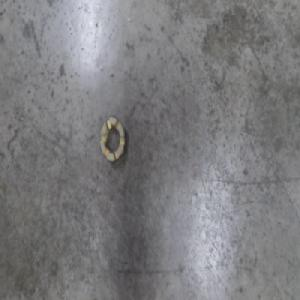Nut: (98, 113, 127, 164)
